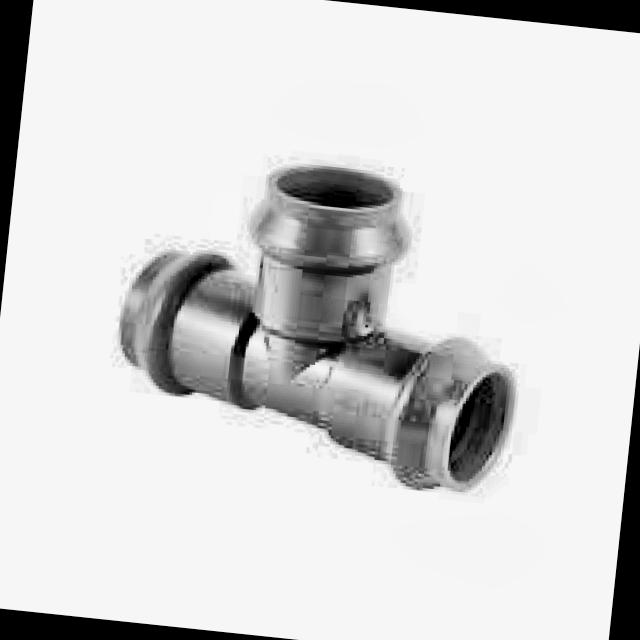EQUALTEE: (120, 162, 513, 491)
